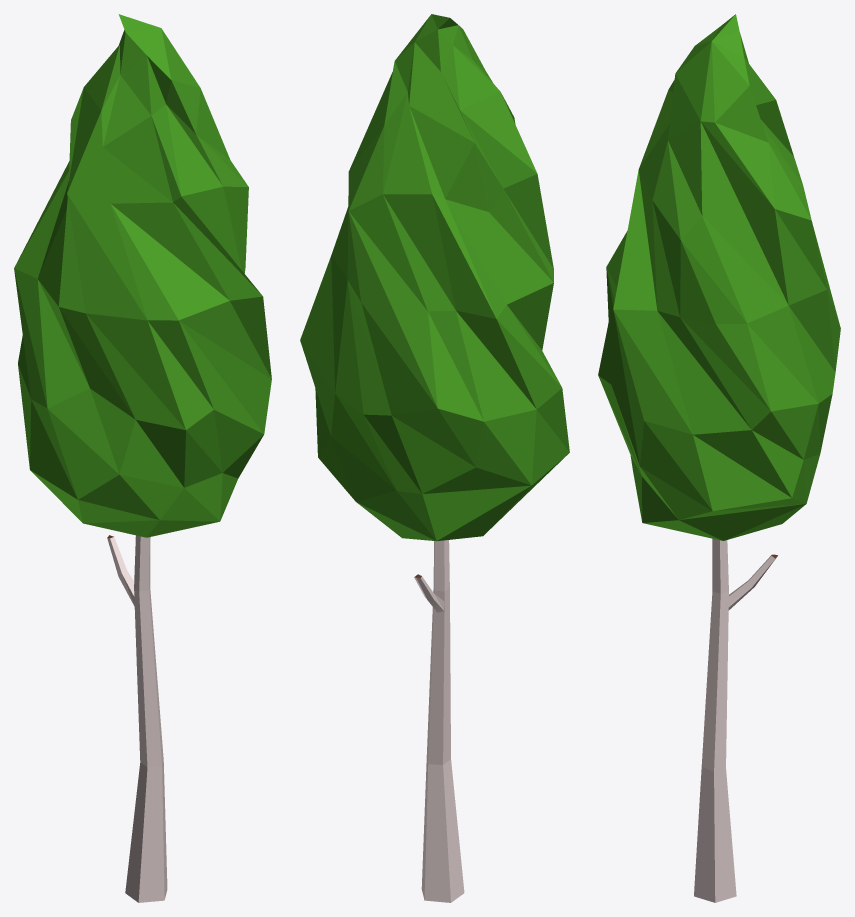
The model's file is Birch_02.FBX.
3 renders of one model, left to right at view 1: azimuth 30°, elevation 25°; view 2: azimuth 150°, elevation 25°; view 3: azimuth 270°, elevation 25°, orthographic. The views are drawn at different scales.
Visible parts, largest first — view 1: Leaves_00, Trunk; view 2: Leaves_00, Trunk; view 3: Leaves_00, Trunk.
Part boxes in pixels (x1,y1,x2,y2): Leaves_00: (14,14,271,537); Trunk: (107,535,167,902); Leaves_00: (300,14,569,541); Trunk: (414,540,464,902); Leaves_00: (598,14,840,540); Trunk: (694,538,777,902).
Size of the model in its own units: 17.94 by 67.97 by 17.19.
